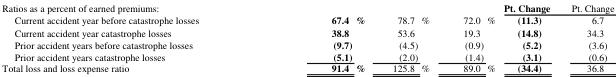table: (1, 1, 613, 74)
table column: (1, 1, 264, 74), (264, 1, 378, 74), (378, 1, 445, 74), (498, 1, 560, 74), (445, 1, 498, 74), (560, 1, 613, 74)
table column header: (1, 1, 613, 25)
table row: (1, 1, 613, 25), (1, 25, 613, 38), (1, 61, 613, 74), (1, 38, 613, 50), (1, 50, 613, 61)
